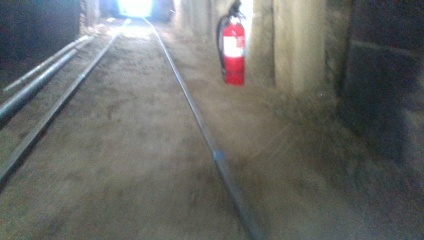fire_extinguisher: (215, 0, 247, 84)
